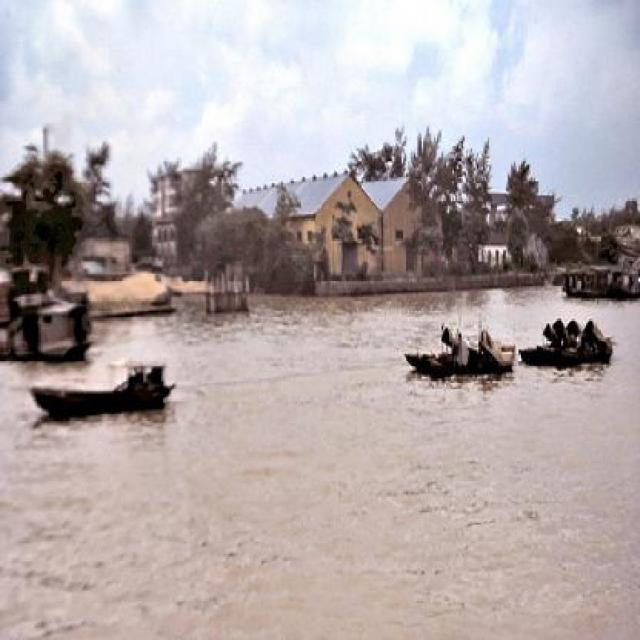ship: (16, 354, 182, 424), (510, 298, 613, 397), (398, 312, 514, 383)
